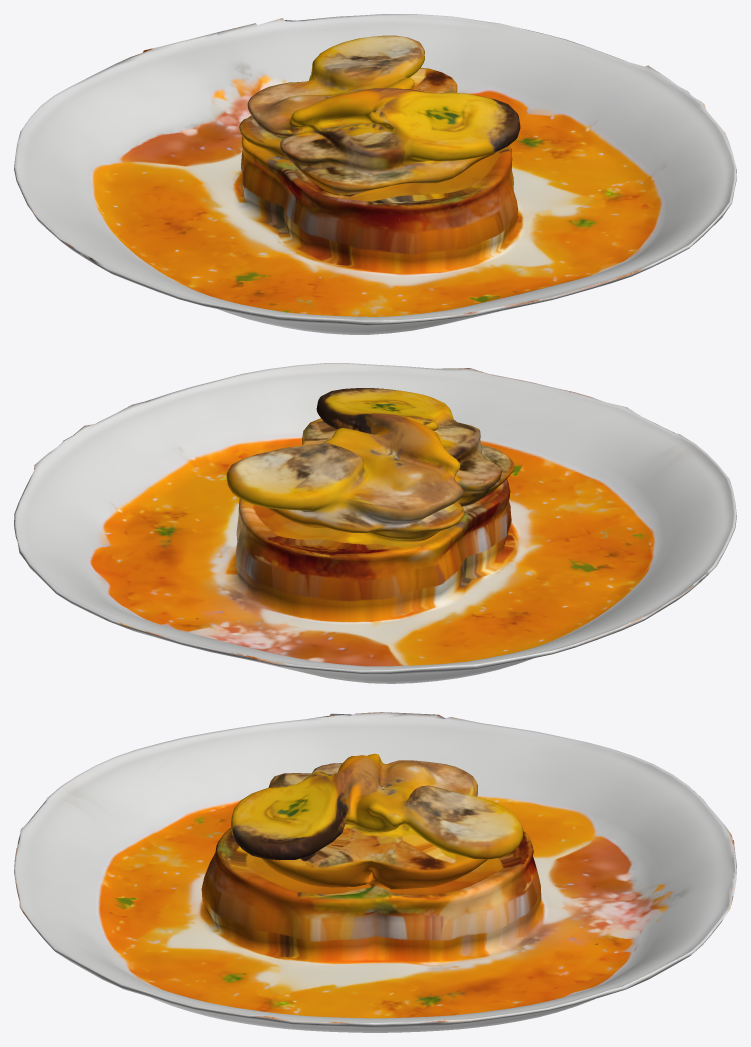
Rendered from ratatouille.glb.
3 views of the same model, one above another, from view 1: azimuth 30°, elevation 25°; view 2: azimuth 150°, elevation 25°; view 3: azimuth 270°, elevation 25° (orthographic). The views are drawn at different scales.
Parts seen in each view (by area): view 1: Object_2; view 2: Object_2; view 3: Object_2.
Part boxes in pixels (x1,y1,x2,y2): Object_2: [14, 14, 736, 334]; Object_2: [14, 363, 736, 683]; Object_2: [14, 712, 736, 1032].
Bounding box in the file's own units: 7.79 × 2 × 7.67.
Materials: 1 (1 with a texture image).
